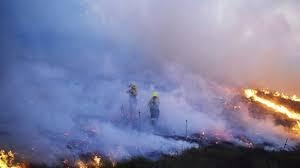fire: (235, 81, 300, 144)
